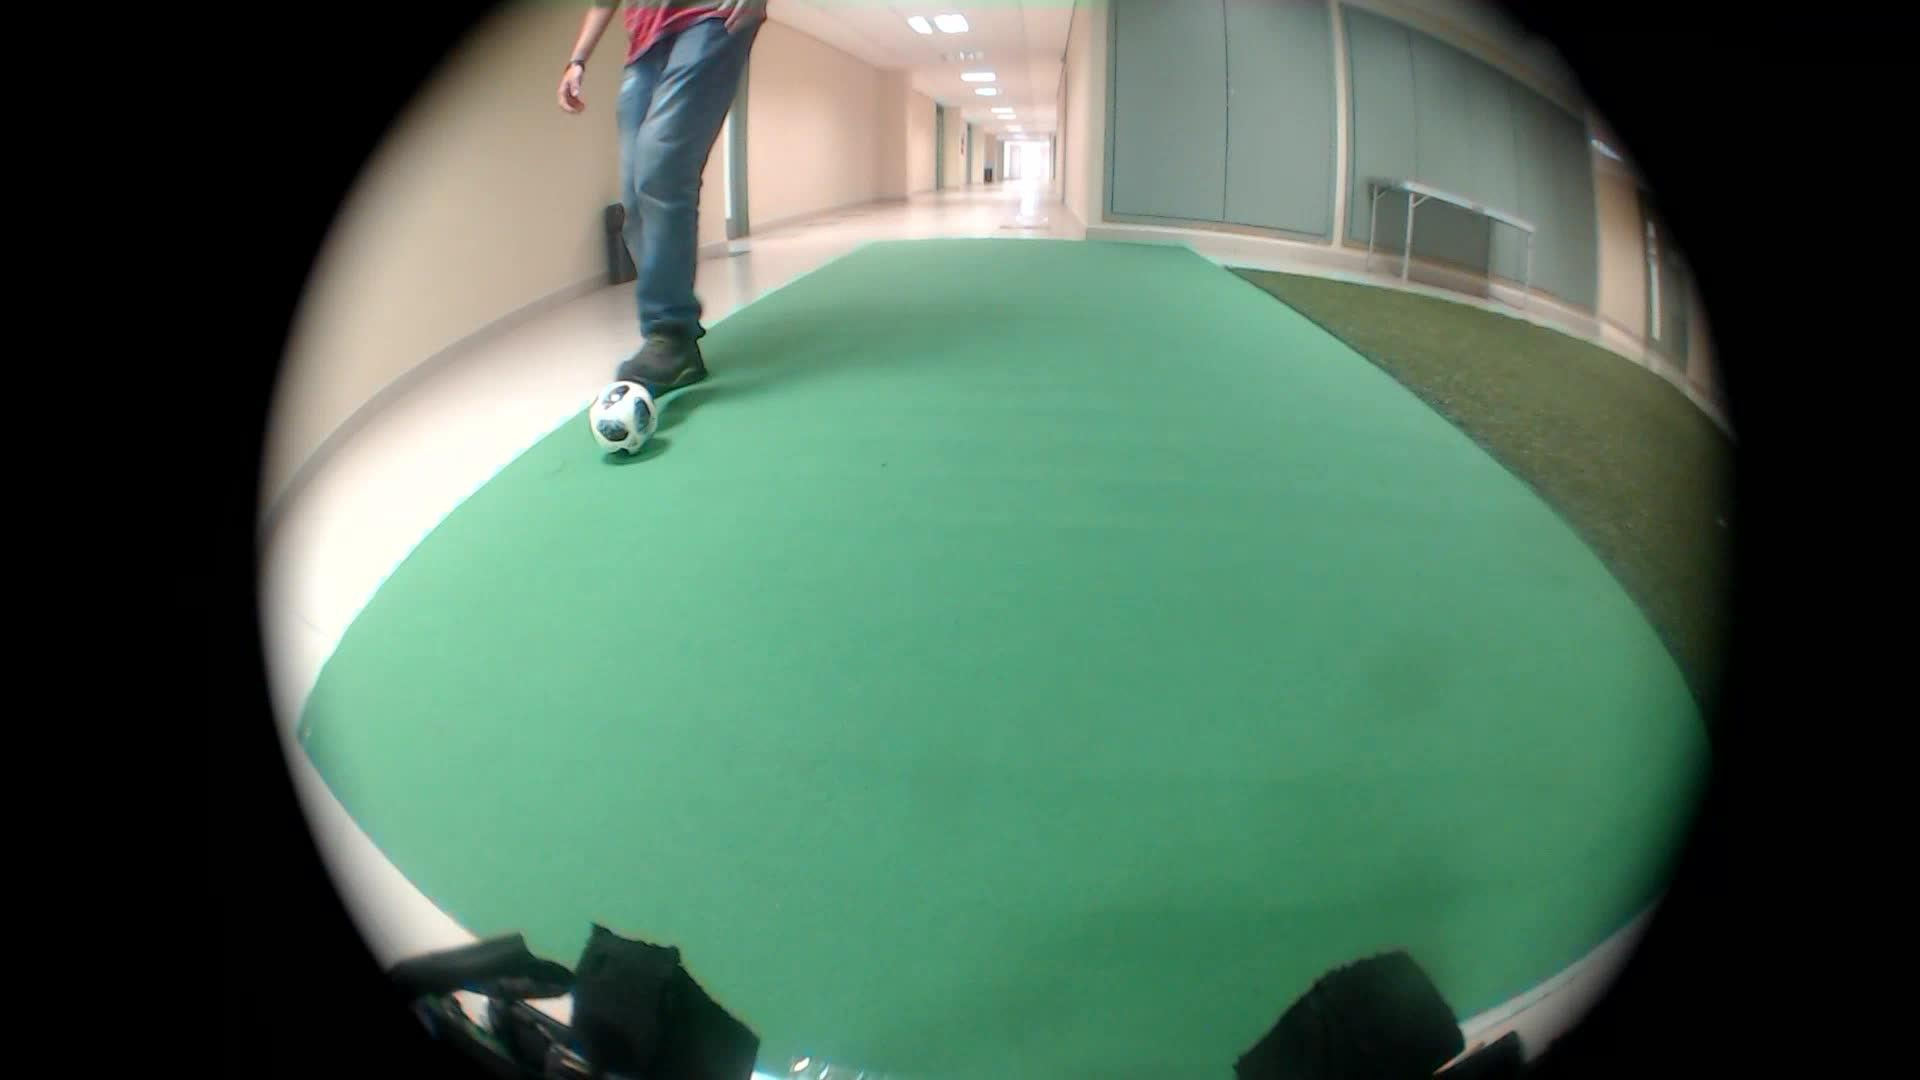ball: (572, 375, 671, 456)
